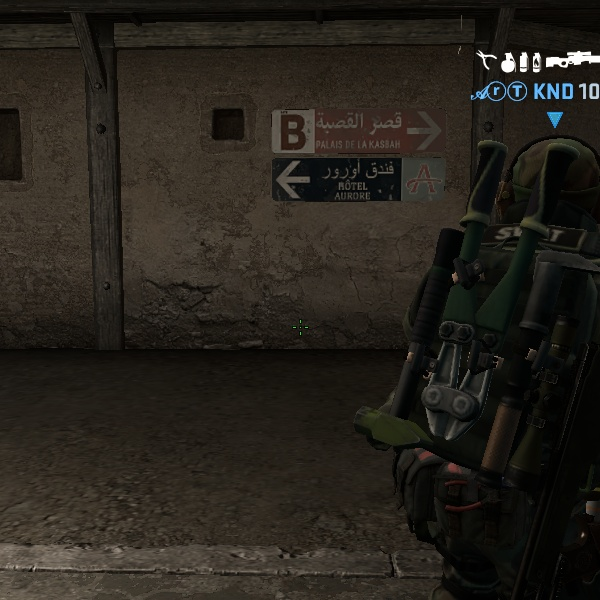ct_body: (378, 121, 600, 595)
ct_head: (486, 117, 600, 240)
